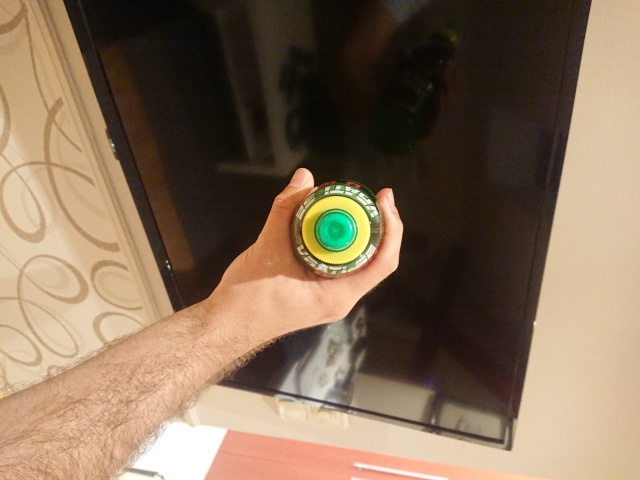Vindi Iso Sport Lemon-Grapefruit 500mL: (285, 176, 389, 282)
